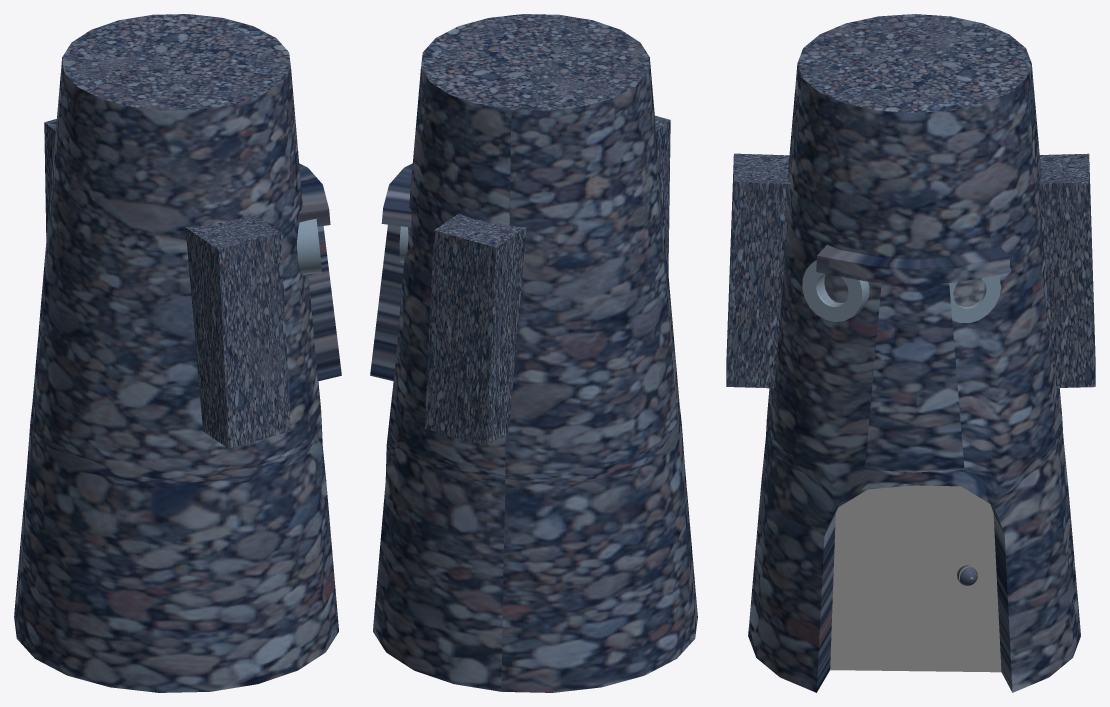
3 views of the same model, side by side, from view 1: azimuth 30°, elevation 25°; view 2: azimuth 150°, elevation 25°; view 3: azimuth 270°, elevation 25° (orthographic).
Parts seen in each view (by area): view 1: polySurface7; view 2: polySurface7; view 3: polySurface7.
Part boxes in pixels (x1=…): polySurface7: x1=14, y1=14, x2=341, y2=692; polySurface7: x1=370, y1=14, x2=697, y2=692; polySurface7: x1=726, y1=14, x2=1095, y2=692.
Size of the model in its own units: 46.81 by 87.25 by 50.9.
4 materials, 1 textured.
